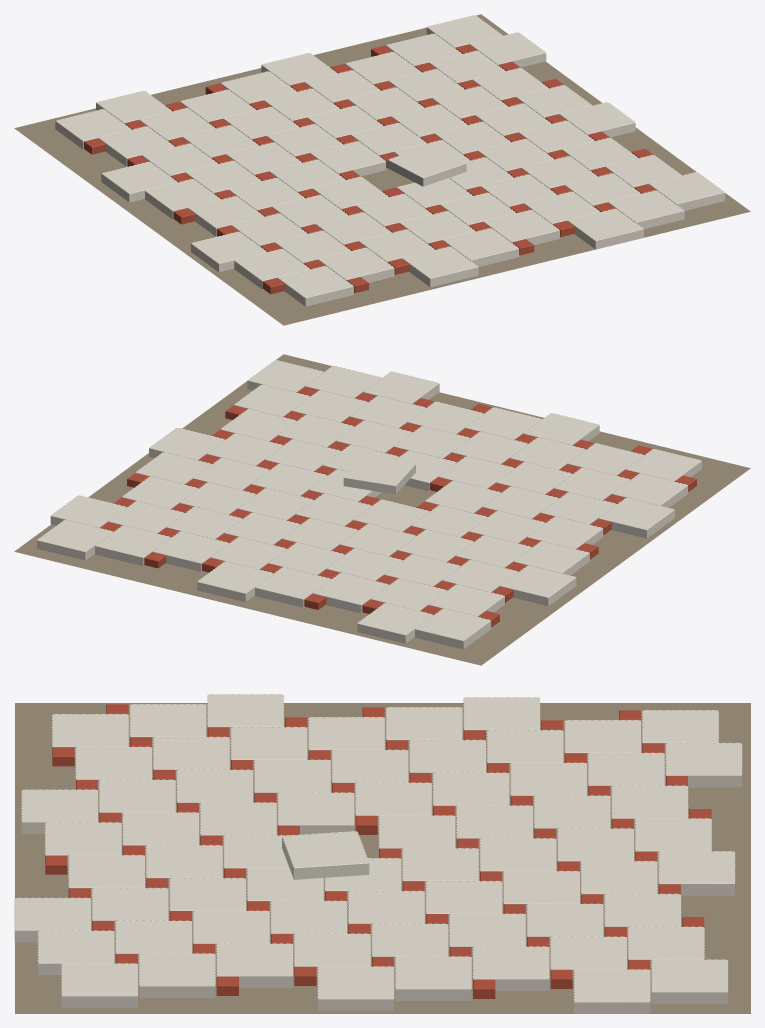
Rendered from terilgan.glb.
3 views of the same model, one above another, from view 1: azimuth 30°, elevation 25°; view 2: azimuth 150°, elevation 25°; view 3: azimuth 270°, elevation 25° (orthographic). The views are drawn at different scales.
Visible parts, largest first — view 1: qum, t.064, t.001, t.023, t.075, t.040, t.092, t.109, t.019, t.005, t.132, t.124 (+56 smaller); view 2: qum, t.038, t.064, t.019, t.005, t.107, t.056, t.133, t.090, t.130, t.121, t.072 (+57 smaller); view 3: qum, t.064, t.109, t.132, t.133, t.110, t.125, t.124, t.107, t.126, t.111, t.056 (+57 smaller).
Part boxes in pixels (x1=…): qum: x1=14, y1=14, x2=750, y2=325; t.064: x1=388, y1=145, x2=466, y2=186; t.001: x1=277, y1=266, x2=353, y2=306; t.023: x1=402, y1=246, x2=478, y2=287; t.075: x1=567, y1=208, x2=643, y2=249; t.040: x1=443, y1=228, x2=519, y2=266; t.092: x1=608, y1=190, x2=684, y2=229; t.109: x1=649, y1=172, x2=725, y2=210; t.019: x1=101, y1=161, x2=177, y2=202; t.005: x1=191, y1=231, x2=266, y2=272; t.132: x1=470, y1=32, x2=546, y2=67; t.124: x1=559, y1=102, x2=635, y2=137; qum: x1=14, y1=354, x2=750, y2=665; t.038: x1=415, y1=608, x2=491, y2=649; t.064: x1=343, y1=455, x2=415, y2=494; t.019: x1=500, y1=565, x2=576, y2=606; t.005: x1=598, y1=498, x2=674, y2=538; t.107: x1=197, y1=561, x2=273, y2=601; t.056: x1=357, y1=603, x2=433, y2=643; t.133: x1=37, y1=520, x2=112, y2=560; t.090: x1=255, y1=567, x2=330, y2=607; t.130: x1=95, y1=525, x2=170, y2=566; t.121: x1=153, y1=531, x2=228, y2=571; t.072: x1=313, y1=573, x2=388, y2=613; qum: x1=15, y1=703, x2=750, y2=1013; t.064: x1=282, y1=831, x2=369, y2=879; t.109: x1=61, y1=963, x2=138, y2=1007; t.132: x1=573, y1=969, x2=650, y2=1013; t.133: x1=651, y1=959, x2=728, y2=1003; t.110: x1=138, y1=953, x2=215, y2=997; t.125: x1=395, y1=956, x2=472, y2=1000; t.124: x1=317, y1=966, x2=394, y2=1010; t.107: x1=658, y1=851, x2=735, y2=895; t.126: x1=472, y1=946, x2=549, y2=990; t.111: x1=216, y1=943, x2=293, y2=987; t.056: x1=665, y1=742, x2=742, y2=787.
Bounding box in the file's own units: 1.66 × 0.062 × 1.66.
